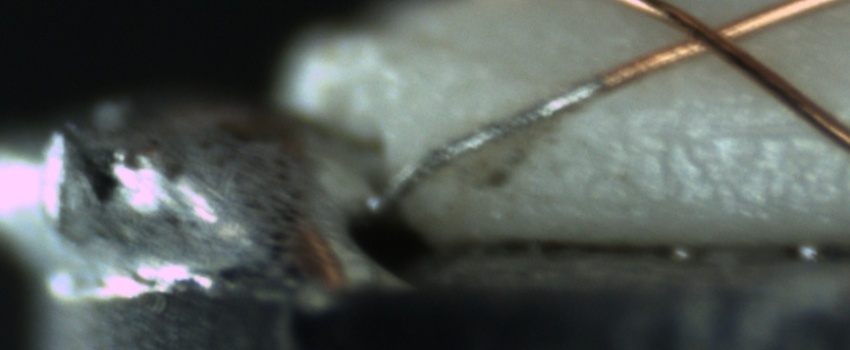CL: (662, 5, 756, 66)
DL: (605, 97, 850, 162)
TS: (376, 77, 608, 213)
